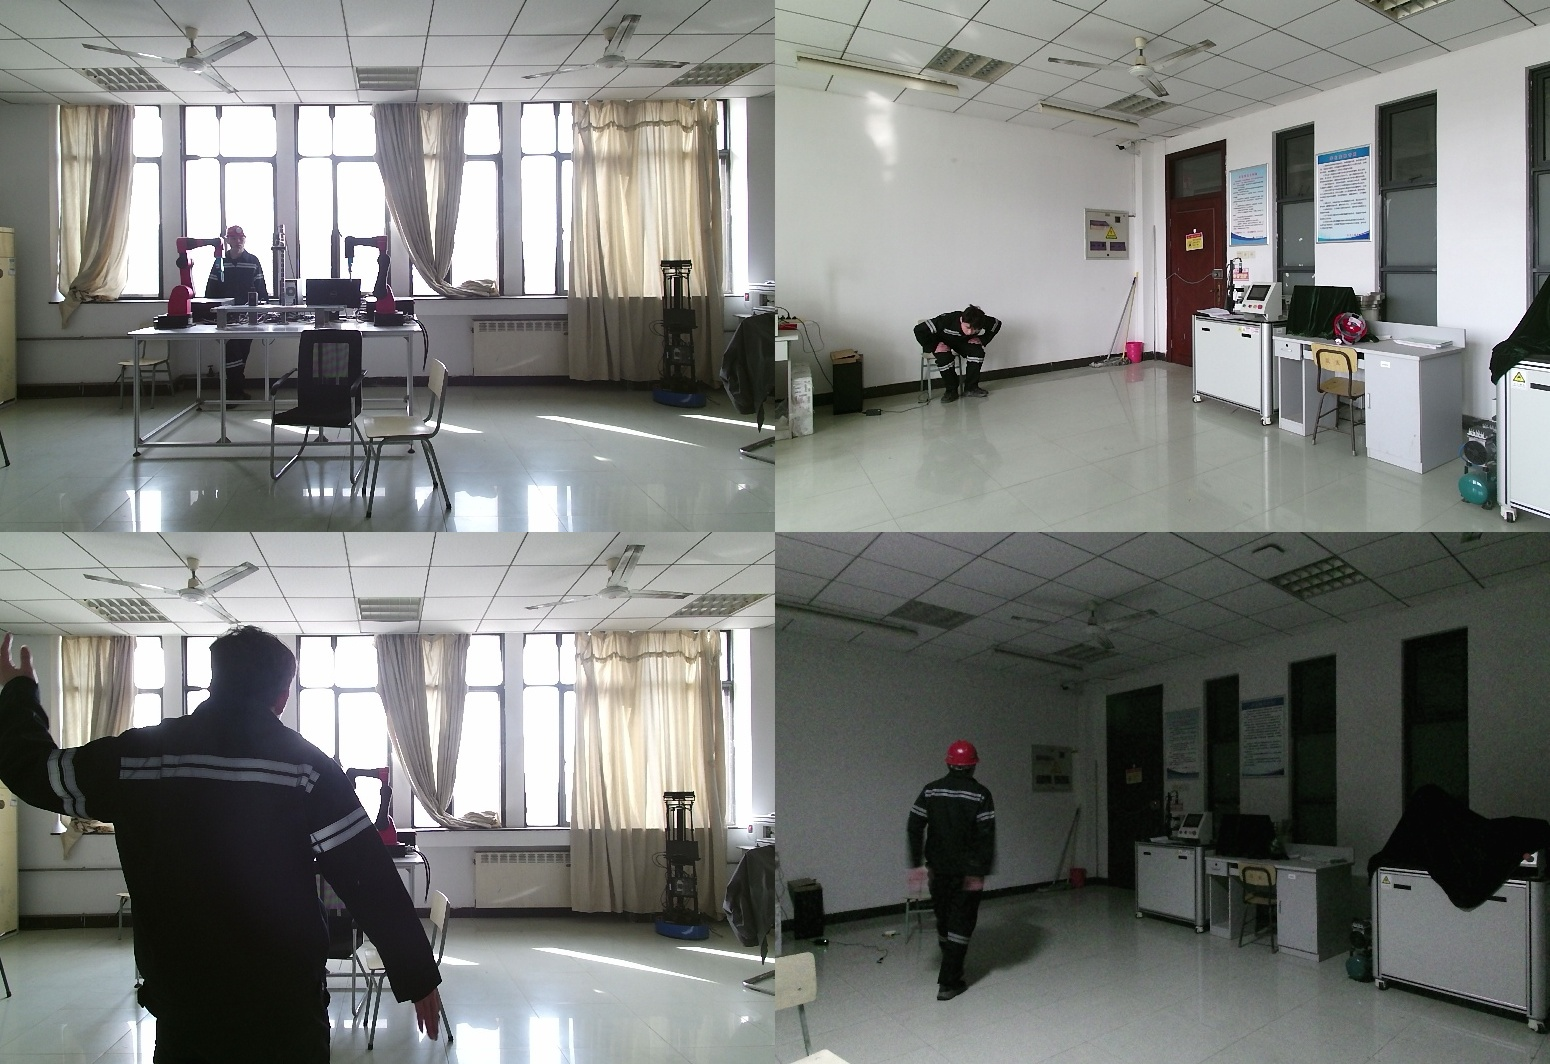person: (1, 629, 451, 1064), (904, 740, 1007, 1001), (204, 226, 268, 409), (913, 309, 1000, 407)
